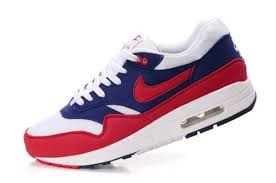nike: (132, 69, 192, 101)
